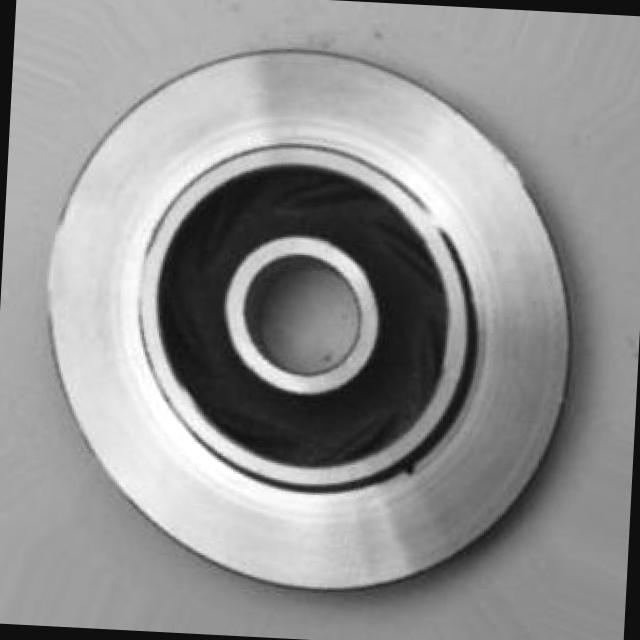Defect: (399, 459, 422, 479)
